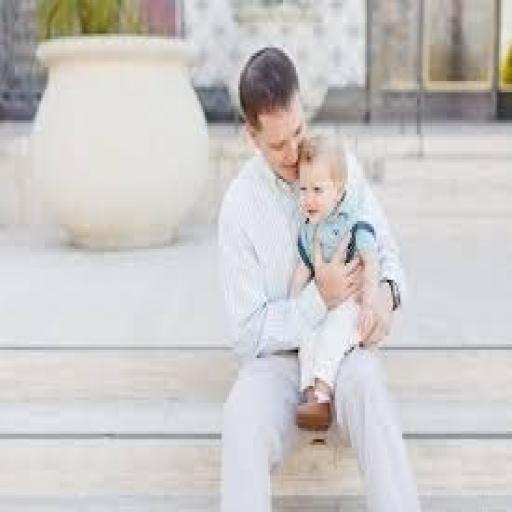hugging: (216, 42, 423, 509)
